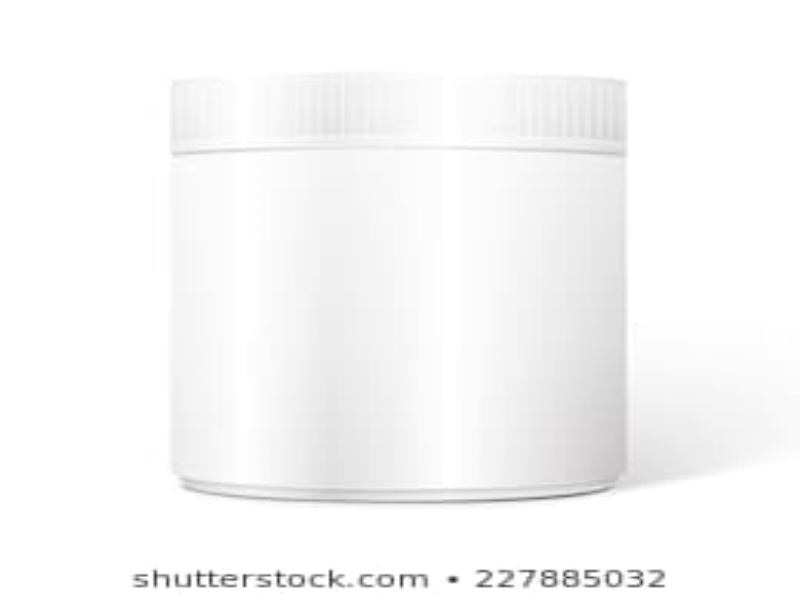plastic-container: (160, 65, 646, 500)
